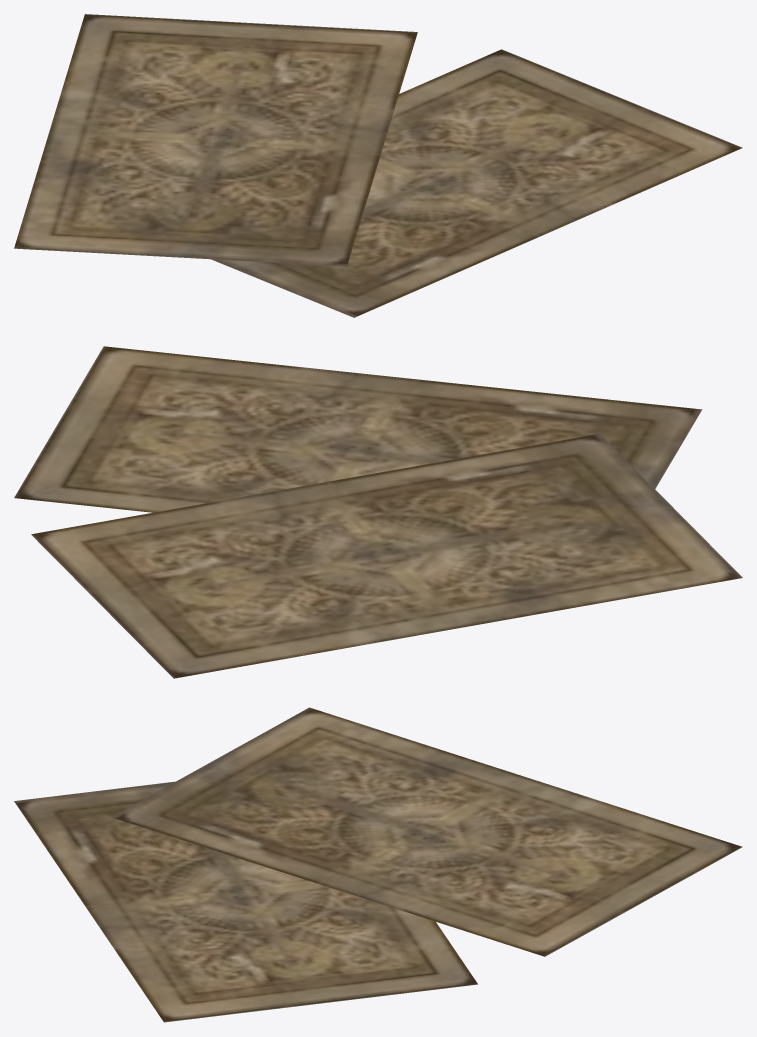
The model's file is pir_m_hnd_crd_hand_2.fbx.
3 views of the same model, one above another, from view 1: azimuth 30°, elevation 25°; view 2: azimuth 150°, elevation 25°; view 3: azimuth 270°, elevation 25° (orthographic). The views are drawn at different scales.
Visible parts, largest first — view 1: card1, card2; view 2: card1, card2; view 3: card1, card2.
Boxes of the visible parts, x1,y1,x2,y2 form: card1: [14, 14, 417, 266]; card2: [211, 49, 742, 317]; card1: [31, 433, 742, 678]; card2: [14, 346, 702, 512]; card1: [111, 707, 742, 956]; card2: [14, 781, 477, 1022].
Bounding box in the file's own units: 56.26 × 0.3471 × 55.74.
Materials: 1 (1 with a texture image).
